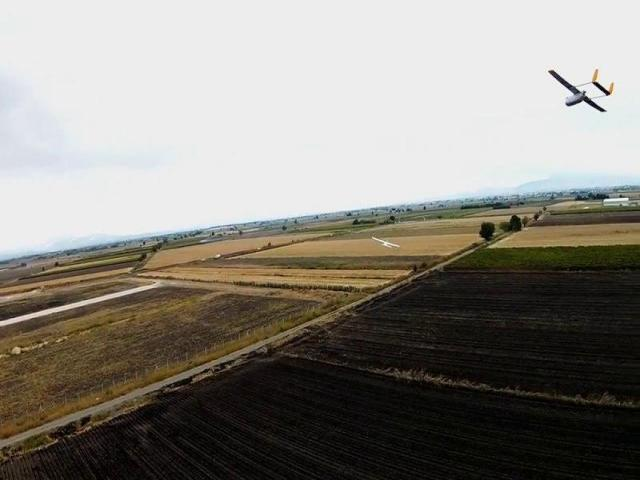hedef: (540, 57, 622, 125)
